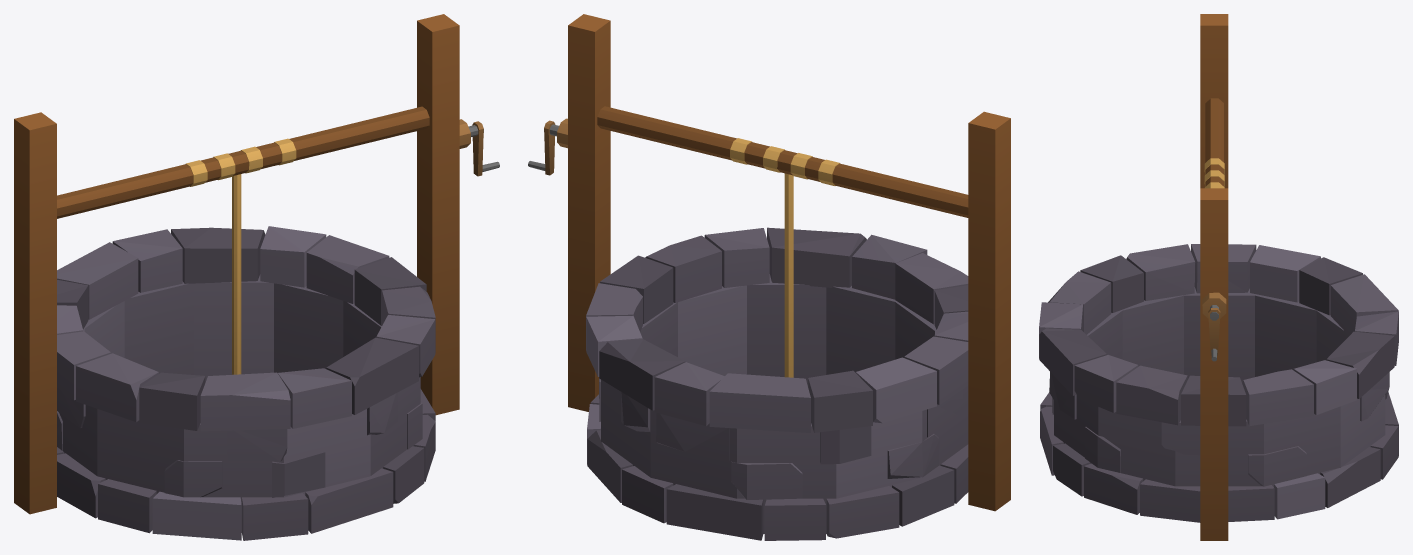
Rendered from Bld_Well_01.obj.
3 renders of one model, left to right at view 1: azimuth 30°, elevation 25°; view 2: azimuth 150°, elevation 25°; view 3: azimuth 270°, elevation 25°, orthographic. The views are drawn at different scales.
Parts seen in each view (by area): view 1: Bld_Well_01, Bld_Well_Crank_01; view 2: Bld_Well_01, Bld_Well_Crank_01; view 3: Bld_Well_01, Bld_Well_Crank_01.
Boxes of the visible parts, x1,y1,x2,y2 form: Bld_Well_01: [14, 14, 459, 540]; Bld_Well_Crank_01: [459, 119, 499, 176]; Bld_Well_01: [568, 14, 1010, 540]; Bld_Well_Crank_01: [528, 118, 567, 175]; Bld_Well_01: [1039, 14, 1398, 540]; Bld_Well_Crank_01: [1202, 292, 1226, 361].
Size of the model in its own units: 2.6 by 2.01 by 1.92.
Materials: 1 (1 with a texture image).
